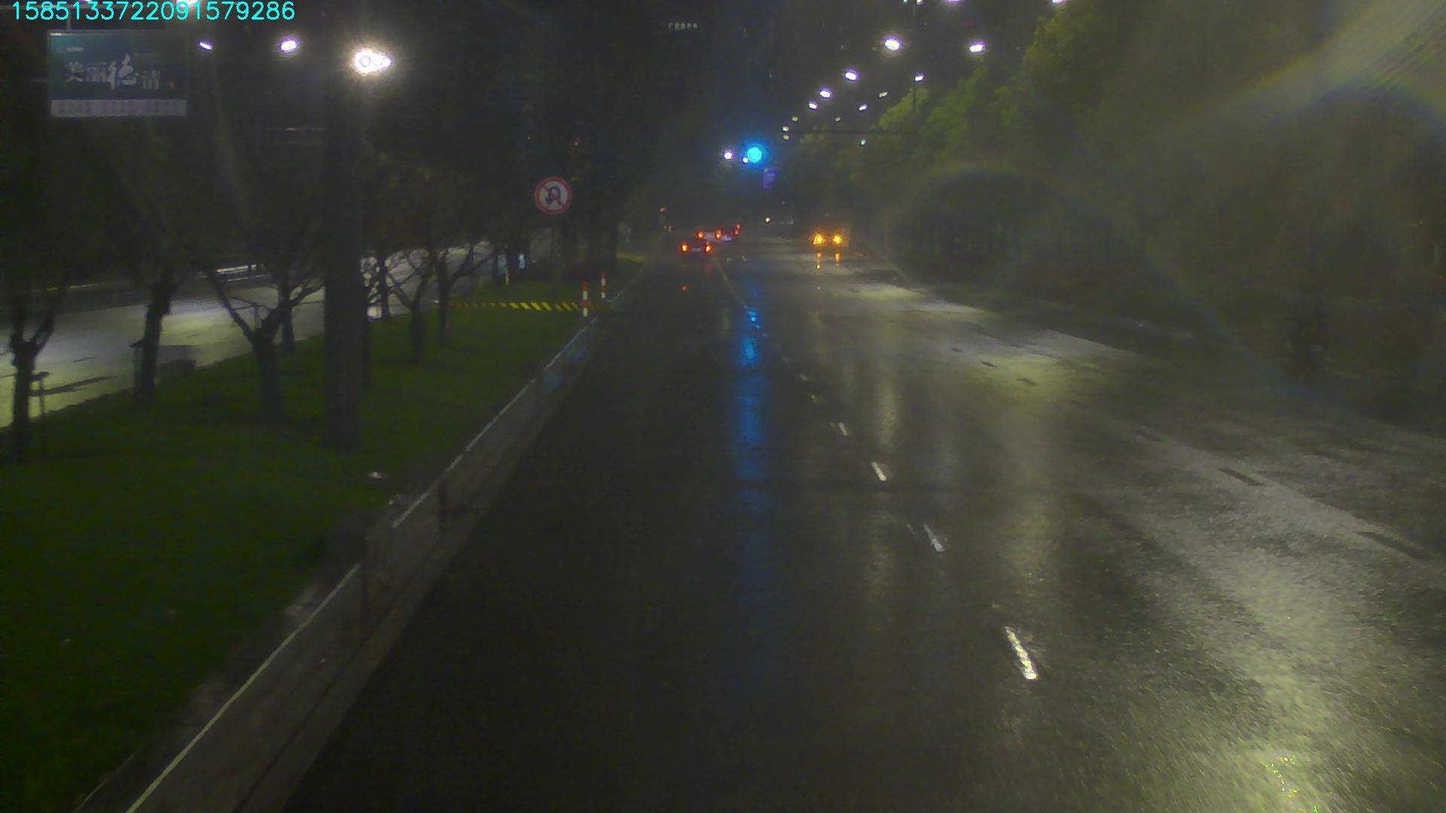green: (740, 137, 767, 163)
